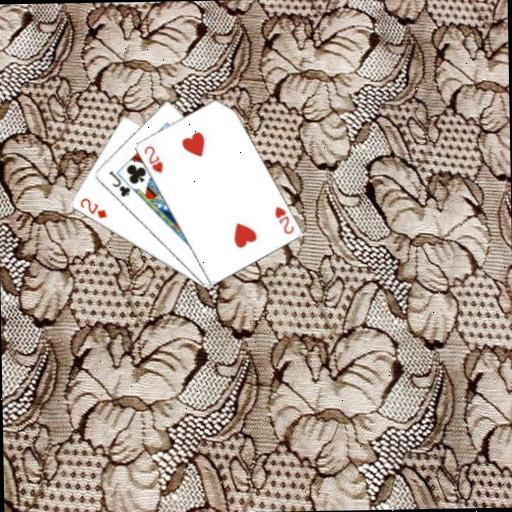2D: (76, 195, 108, 221)
2H: (271, 203, 296, 236), (141, 143, 165, 175)
JC: (106, 167, 132, 199)
